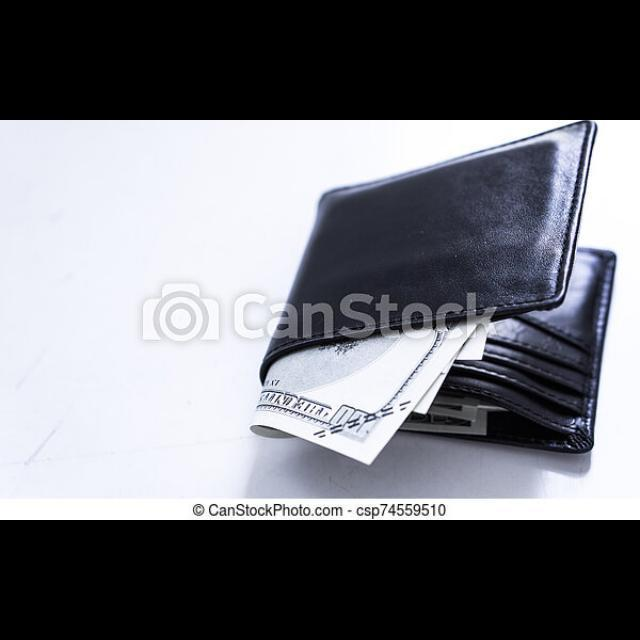wallet: (283, 159, 605, 447)
